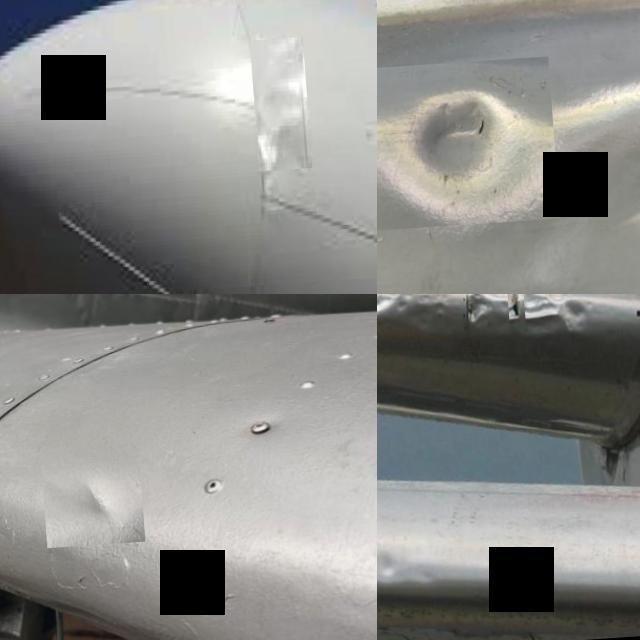Crack: (504, 294, 519, 330)
Dent: (377, 61, 553, 232), (35, 448, 139, 552), (377, 294, 589, 336), (252, 43, 302, 175), (582, 175, 640, 261)
